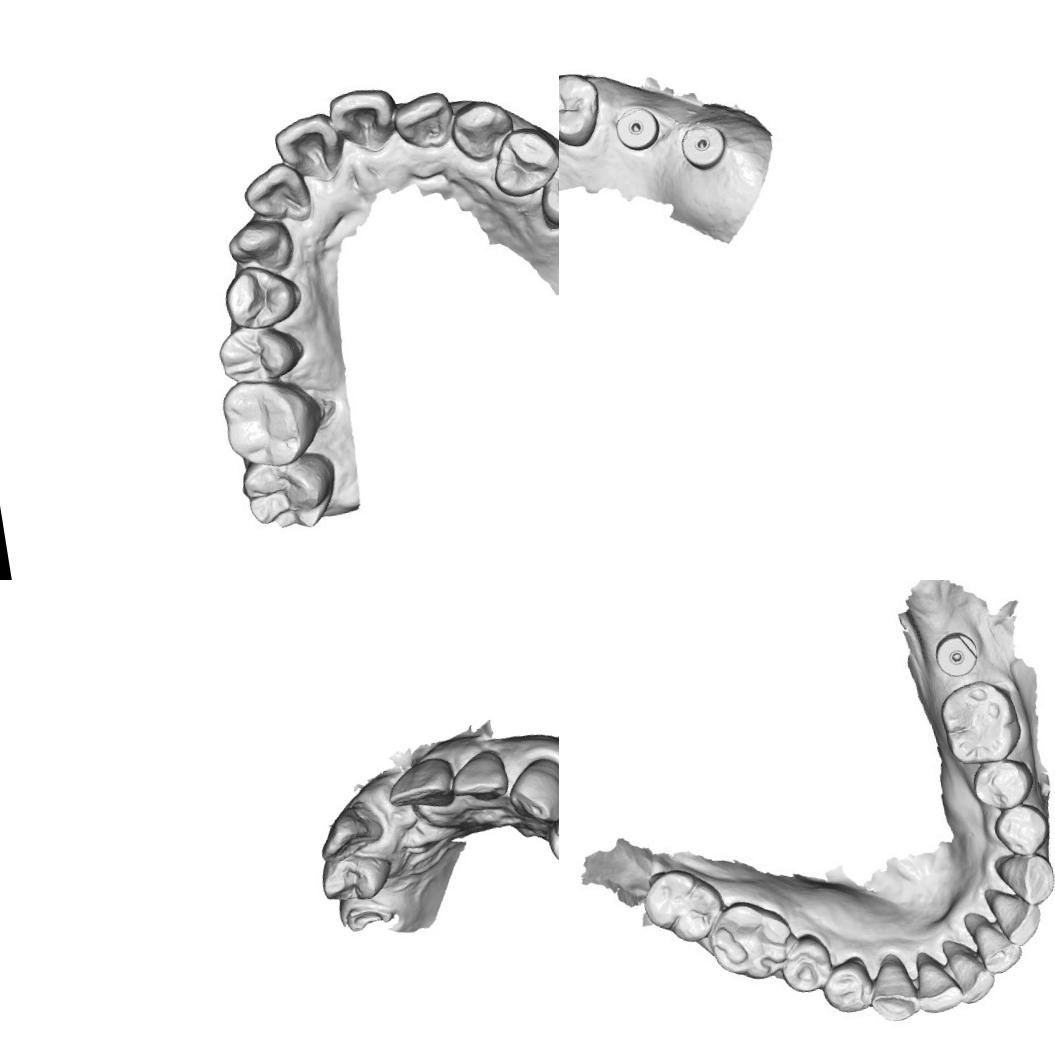canine: (443, 94, 519, 170), (224, 214, 303, 279), (864, 947, 924, 1025), (502, 752, 559, 831), (991, 845, 1055, 909)
implant: (924, 617, 988, 689), (676, 118, 732, 177), (612, 102, 660, 156)
incisor: (268, 110, 348, 188), (236, 158, 318, 231), (382, 752, 460, 817), (332, 85, 402, 156), (312, 800, 386, 864), (446, 745, 514, 807), (946, 935, 995, 1011), (394, 92, 455, 152), (988, 881, 1043, 946), (966, 908, 1016, 977), (914, 953, 962, 1013)
molar: (217, 370, 335, 472), (238, 448, 347, 537), (702, 894, 804, 988), (934, 676, 1020, 766), (638, 861, 724, 950)
premolar: (216, 316, 311, 394), (218, 260, 306, 334), (490, 120, 559, 199), (318, 848, 397, 906), (559, 68, 606, 153), (989, 801, 1052, 859), (973, 756, 1033, 807), (781, 937, 832, 997), (824, 958, 872, 1014), (532, 146, 559, 238), (537, 784, 559, 870)
